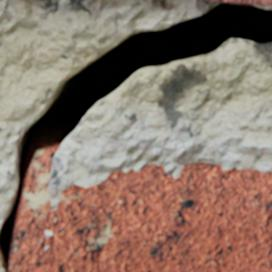brick: (9, 162, 271, 271), (201, 0, 271, 5)
crack: (0, 2, 271, 271)
